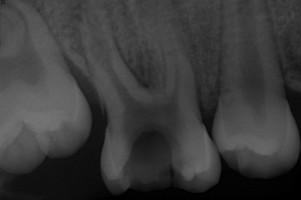Endo-Periodontal Lesion: (120, 47, 166, 89)
